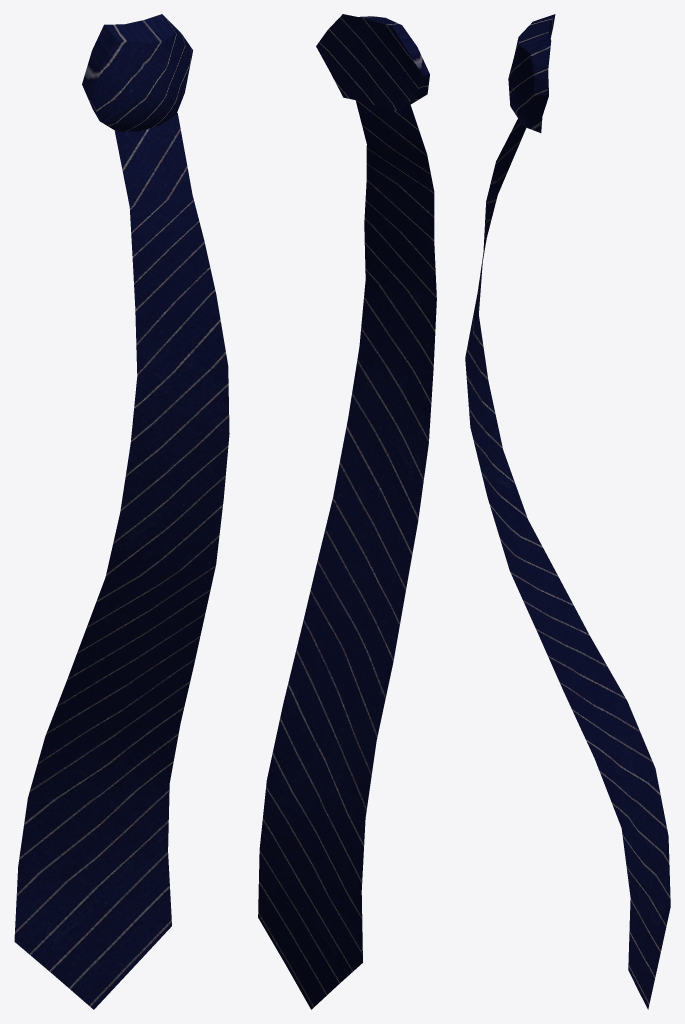
File: Pose-7_SuitTie-4.fbx
3 renders of one model, left to right at view 1: azimuth 30°, elevation 25°; view 2: azimuth 150°, elevation 25°; view 3: azimuth 270°, elevation 25°, orthographic. The views are drawn at different scales.
Visible parts, largest first — view 1: Pose-7_SuitTie-4; view 2: Pose-7_SuitTie-4; view 3: Pose-7_SuitTie-4.
Boxes of the visible parts, bbox=[...] form: Pose-7_SuitTie-4: bbox=[14, 14, 229, 1009]; Pose-7_SuitTie-4: bbox=[258, 14, 436, 1009]; Pose-7_SuitTie-4: bbox=[465, 14, 670, 1009].
Size of the model in its own units: 6.73 by 49.01 by 9.34.
